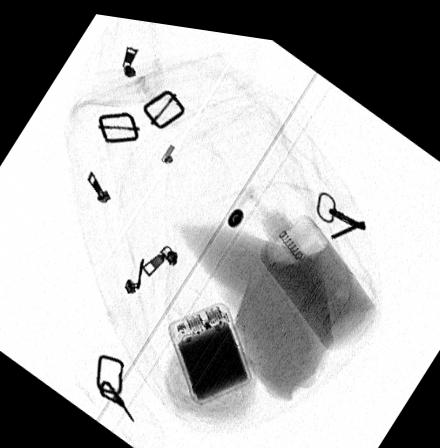Powerbank: (164, 294, 253, 399)
